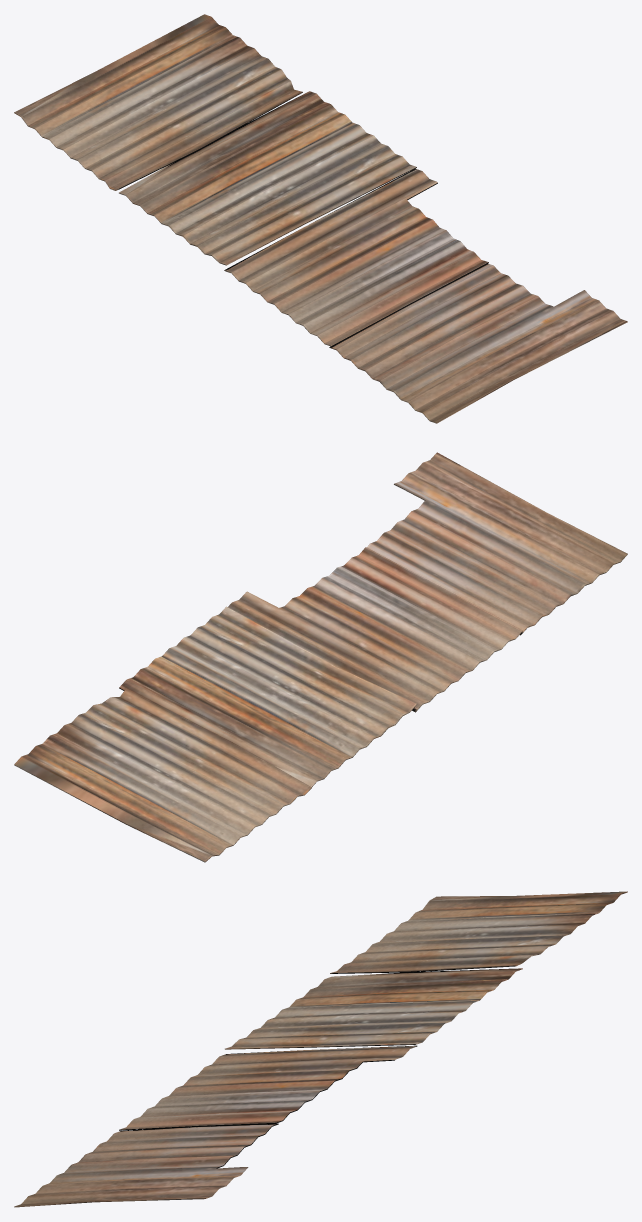
The picture shows the model from 3 angles, top to bottom: view 1: azimuth 30°, elevation 25°; view 2: azimuth 150°, elevation 25°; view 3: azimuth 330°, elevation 25°; orthographic projection.
Parts seen in each view (by area): view 1: Object_96; view 2: Object_96; view 3: Object_96.
Part boxes in pixels (x1,y1,x2,y2): Object_96: (14, 14, 627, 423); Object_96: (14, 452, 627, 862); Object_96: (14, 891, 627, 1207).
Size of the model in its own units: 2.71 by 0.7828 by 10.26.
Materials: 1 (1 with a texture image).
